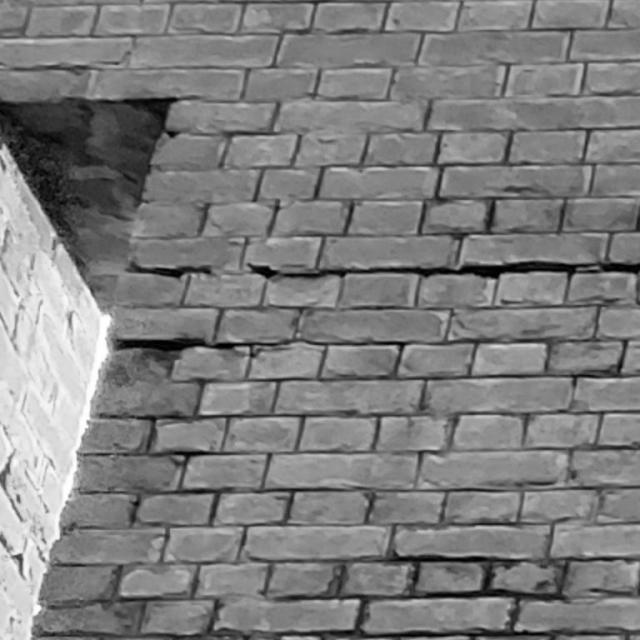crack: (124, 259, 640, 280), (106, 338, 278, 358)
